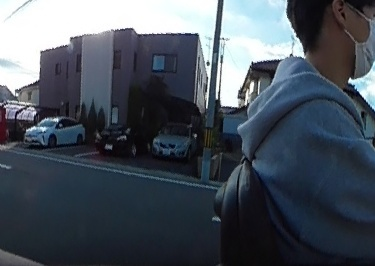person: (245, 0, 375, 262)
